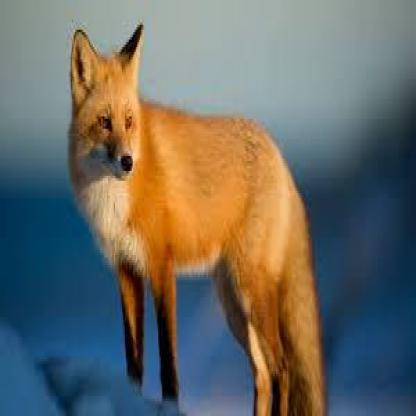raposa: (36, 5, 329, 416)
